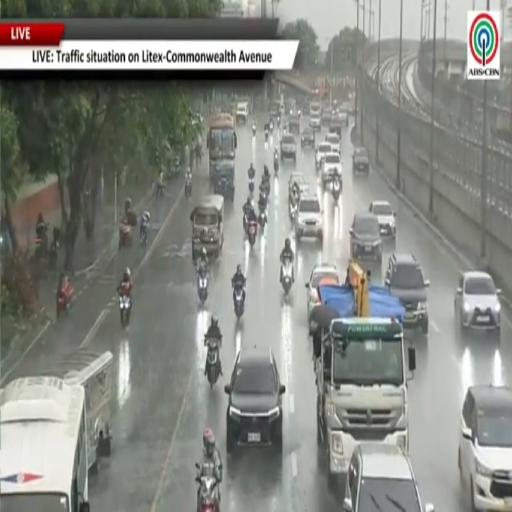bus: (0, 377, 89, 511)
car: (458, 386, 511, 511), (225, 348, 285, 453), (343, 442, 434, 511), (385, 252, 429, 334), (455, 271, 501, 332), (306, 264, 339, 317), (349, 213, 382, 262), (295, 195, 323, 241), (369, 201, 396, 237), (321, 152, 342, 183), (289, 171, 309, 197), (315, 141, 332, 170), (280, 133, 296, 162), (352, 147, 369, 173), (310, 102, 321, 131), (326, 133, 341, 154), (301, 127, 315, 148), (236, 102, 250, 123), (340, 102, 353, 124), (329, 119, 342, 140), (321, 103, 332, 125), (338, 109, 348, 126)
jeepney: (315, 317, 408, 486), (44, 348, 113, 471), (191, 195, 224, 259), (207, 114, 236, 181), (213, 162, 235, 201), (288, 117, 300, 136)
motorcycle: (196, 463, 218, 511), (205, 338, 221, 387), (57, 281, 73, 317), (48, 228, 59, 270), (119, 294, 131, 328), (35, 228, 47, 261), (282, 260, 293, 295), (119, 223, 132, 249), (234, 286, 244, 318), (198, 274, 208, 306), (248, 220, 257, 246), (258, 211, 267, 235), (258, 191, 268, 211), (332, 179, 341, 201), (140, 224, 147, 246), (290, 202, 297, 222), (156, 183, 164, 199), (185, 180, 191, 199), (243, 214, 248, 234), (274, 154, 278, 175), (249, 179, 254, 194), (269, 121, 274, 132), (264, 130, 269, 141), (252, 124, 256, 136)
truck: (315, 262, 415, 487), (207, 114, 236, 182)
